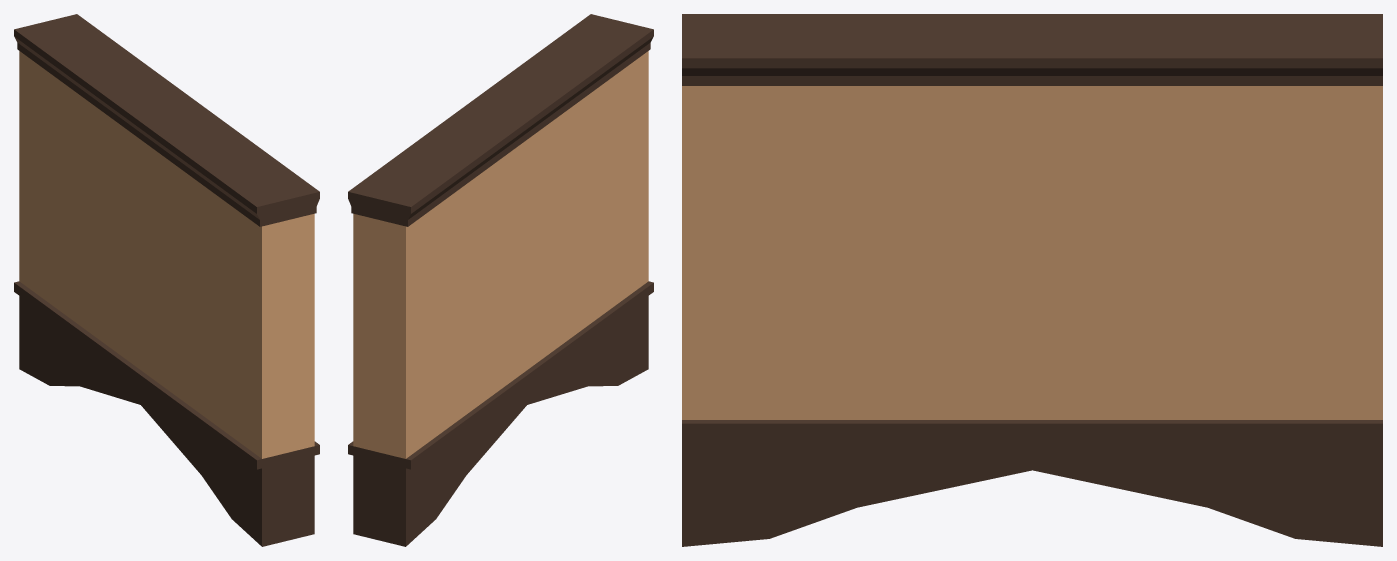
File: S_UpEntranceDoor.fbx
The picture shows the model from 3 angles, left to right: view 1: azimuth 30°, elevation 25°; view 2: azimuth 150°, elevation 25°; view 3: azimuth 270°, elevation 25°; orthographic projection. The views are drawn at different scales.
Parts seen in each view (by area): view 1: S_WallEmpty.004; view 2: S_WallEmpty.004; view 3: S_WallEmpty.004.
Part boxes in pixels (x1=…): S_WallEmpty.004: x1=14, y1=14, x2=319, y2=546; S_WallEmpty.004: x1=348, y1=14, x2=653, y2=546; S_WallEmpty.004: x1=682, y1=14, x2=1382, y2=546.
Size of the model in its own units: 59.94 by 310 by 400.
